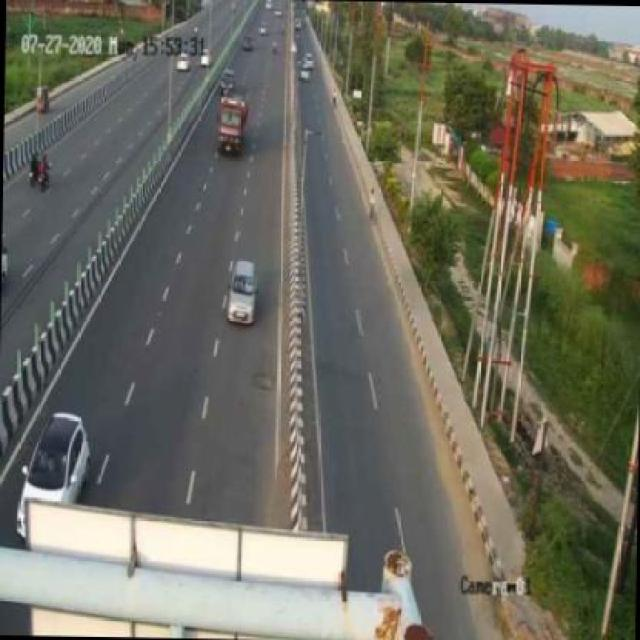car: (12, 403, 92, 526), (223, 259, 260, 326)
